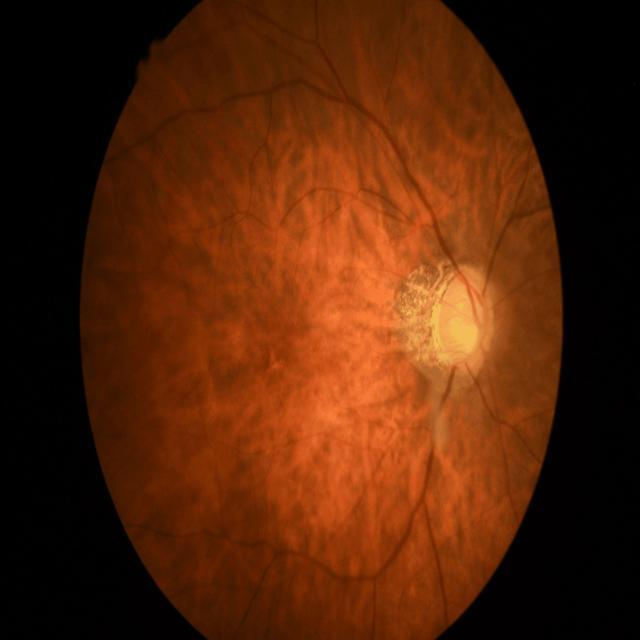cup: (448, 286, 488, 358)
disk: (440, 265, 497, 373)
